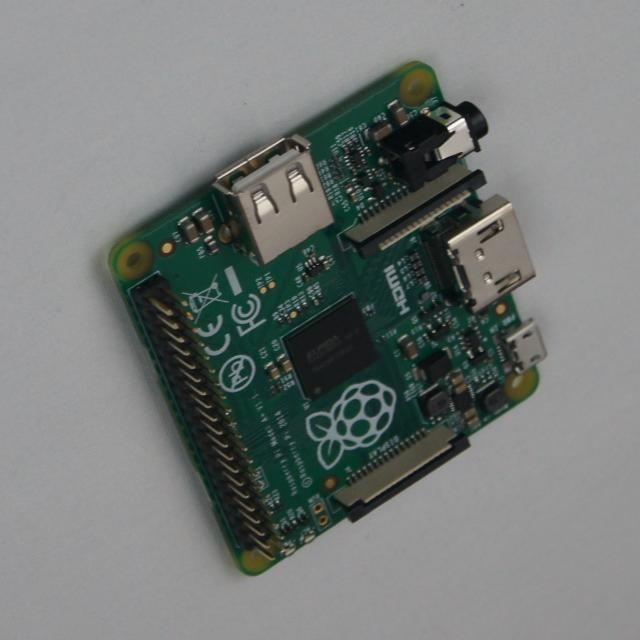Raspberry-Pi-1-A-: (109, 62, 548, 575)
